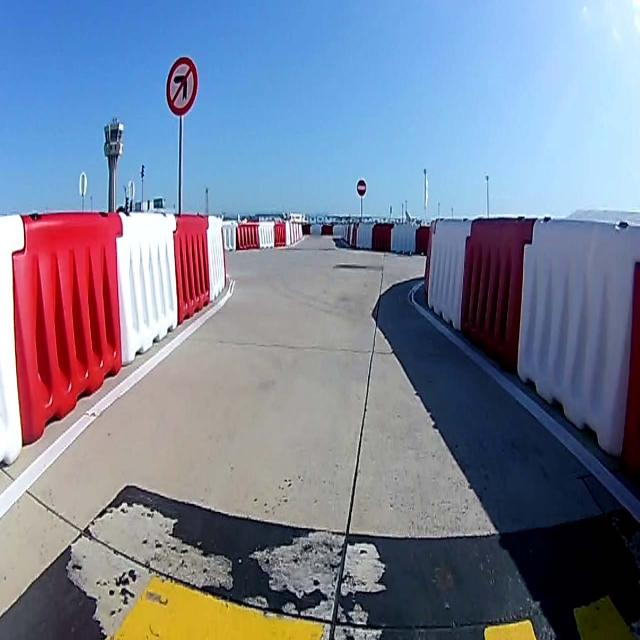girisyok: (356, 178, 366, 198)
soladonulmez: (165, 52, 197, 114)
